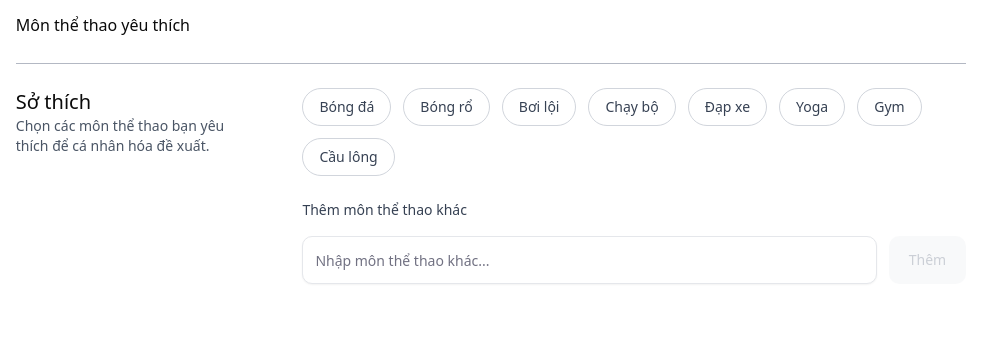
SportsSection Component › allows adding multiple custom sports
This screenshot has width=983, height=355.
Type "Bóng chuyền" into the field with placeholder "Nhập môn thể thao khác...". click: (590, 260)
box: [302,236,877,284]
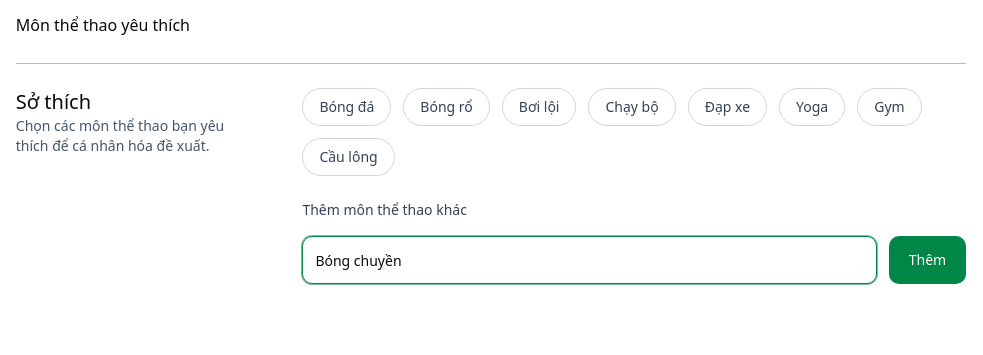
Click the button "Thêm". click: (928, 260)
box: [889,236,966,284]
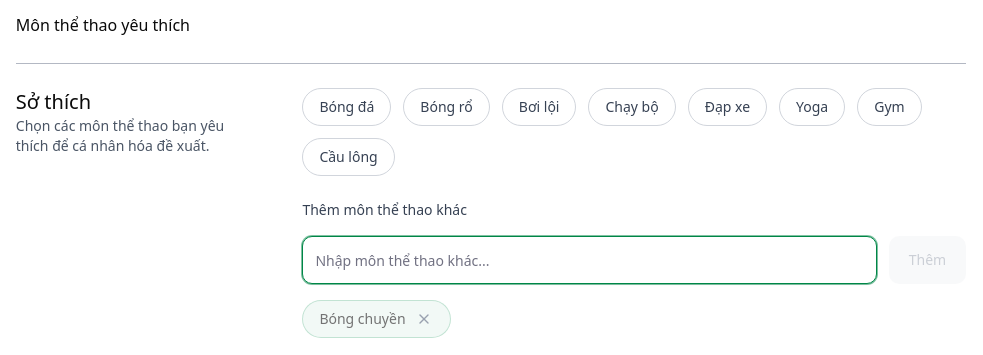
Type "Bóng ném" into the field with placeholder "Nhập môn thể thao khác...". click: (590, 260)
box: [302,236,877,284]
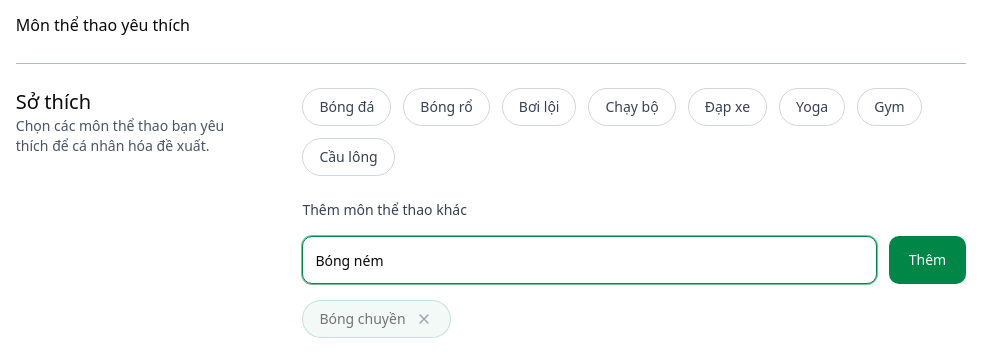
Click the button "Thêm". click: (928, 260)
box: [889,236,966,284]
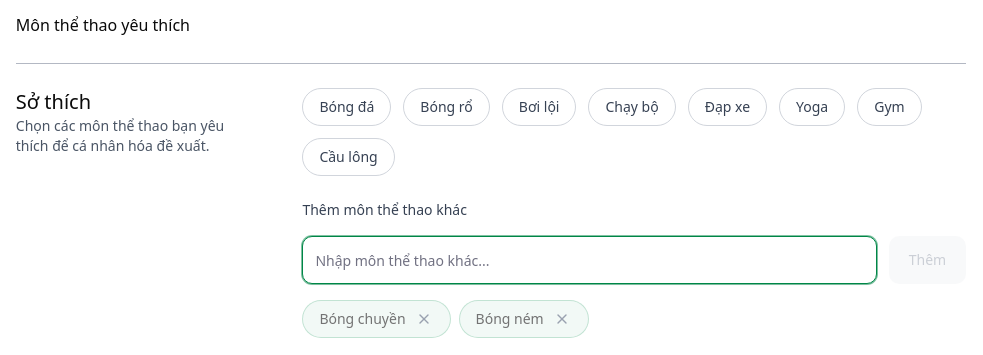
Type "Quần vợt" into the field with placeholder "Nhập môn thể thao khác...". click: (590, 260)
box: [302,236,877,284]
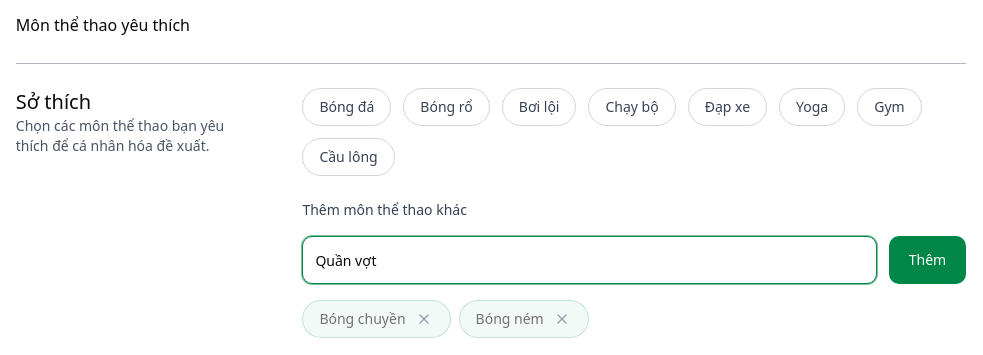
Click the button "Thêm". click: (928, 260)
box: [889,236,966,284]
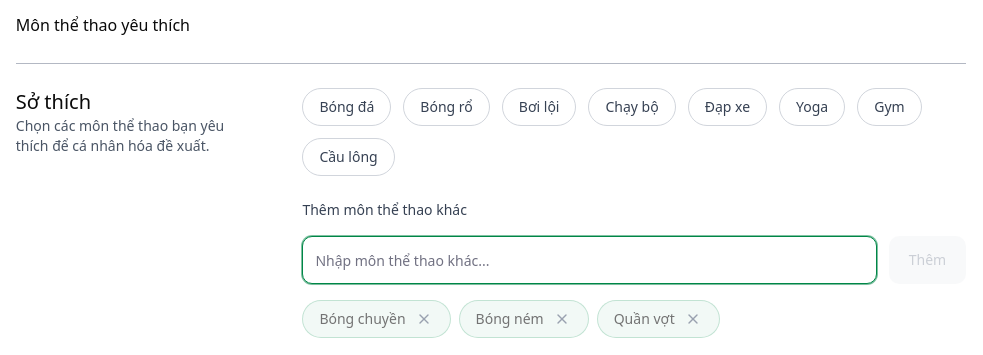
Check: the text "Bóng chuyền" is shown, box [302,300,451,338]
Check: the text "Bóng ném" is shown, box [459,300,589,338]
Check: the text "Quần vợt" is shown, box [597,300,720,338]
